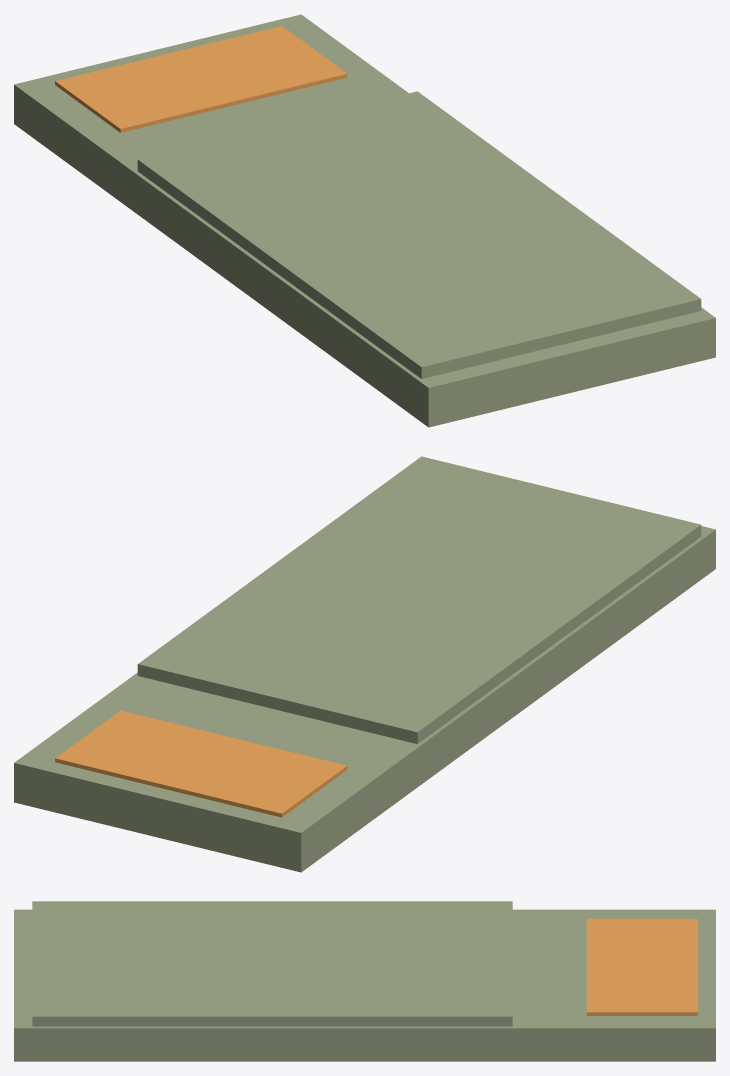
The model's file is SM_SleepingBag_Open.fbx.
3 views of the same model, one above another, from view 1: azimuth 30°, elevation 25°; view 2: azimuth 150°, elevation 25°; view 3: azimuth 270°, elevation 25° (orthographic). The views are drawn at different scales.
Visible parts, largest first — view 1: SM_SleepingBag_Open; view 2: SM_SleepingBag_Open; view 3: SM_SleepingBag_Open.
Part boxes in pixels (box(x1,y1,x2,y2)): SM_SleepingBag_Open: box(14, 14, 715, 427); SM_SleepingBag_Open: box(14, 456, 715, 872); SM_SleepingBag_Open: box(14, 901, 715, 1061).
Bounding box in the file's own units: 0.76 × 0.13 × 1.9.
